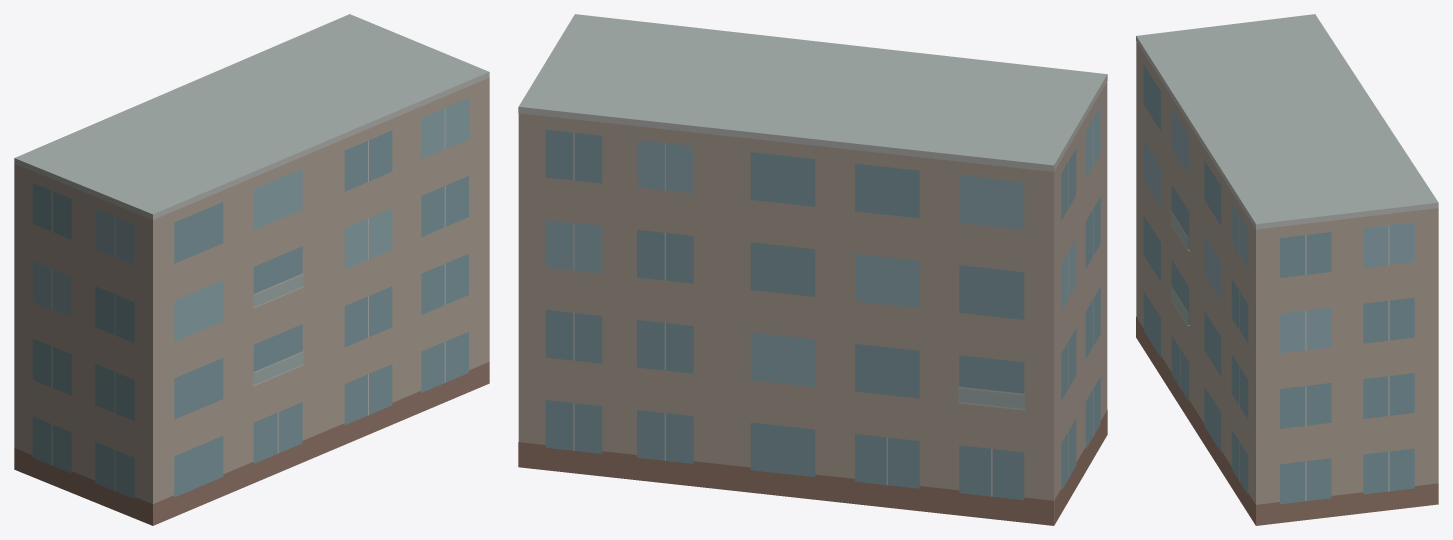
Rendered from survey-upis-33001810.glb.
3 renders of one model, left to right at view 1: azimuth 30°, elevation 25°; view 2: azimuth 150°, elevation 25°; view 3: azimuth 270°, elevation 25°, orthographic. The views are drawn at different scales.
Parts seen in each view (by area): view 1: survey-upis-33001810.tmp; view 2: survey-upis-33001810.tmp; view 3: survey-upis-33001810.tmp.
Boxes of the visible parts, x1,y1,x2,y2 form: survey-upis-33001810.tmp: (14, 14, 489, 525); survey-upis-33001810.tmp: (518, 14, 1107, 525); survey-upis-33001810.tmp: (1136, 14, 1438, 525).
Bounding box in the file's own units: 20.33 × 13.6 × 12.37.
